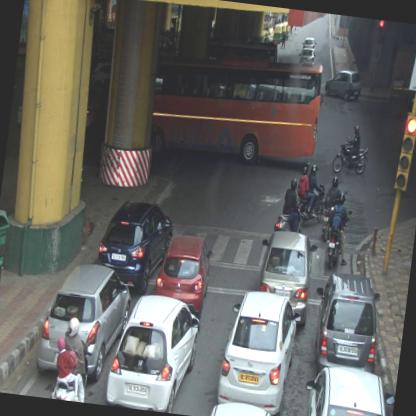bus: (148, 44, 326, 170)
car: (35, 256, 136, 386), (104, 290, 202, 414), (214, 288, 303, 415), (307, 270, 386, 376), (94, 197, 176, 296), (252, 226, 319, 328), (299, 362, 398, 415), (152, 232, 214, 314), (324, 68, 362, 101), (301, 35, 317, 53), (298, 47, 316, 62)
motorcycle: (50, 314, 96, 402), (292, 162, 330, 226), (324, 191, 354, 269), (332, 124, 372, 176), (274, 176, 306, 235), (321, 174, 340, 240)
